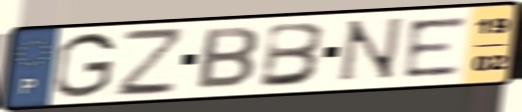B: (255, 21, 330, 91), (192, 25, 262, 92)
E: (402, 13, 470, 80)
G: (51, 30, 120, 100)
N: (331, 15, 408, 86)
Z: (113, 28, 185, 100)
